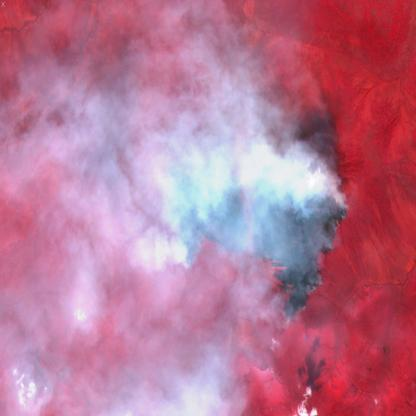fire: (163, 153, 348, 326)
